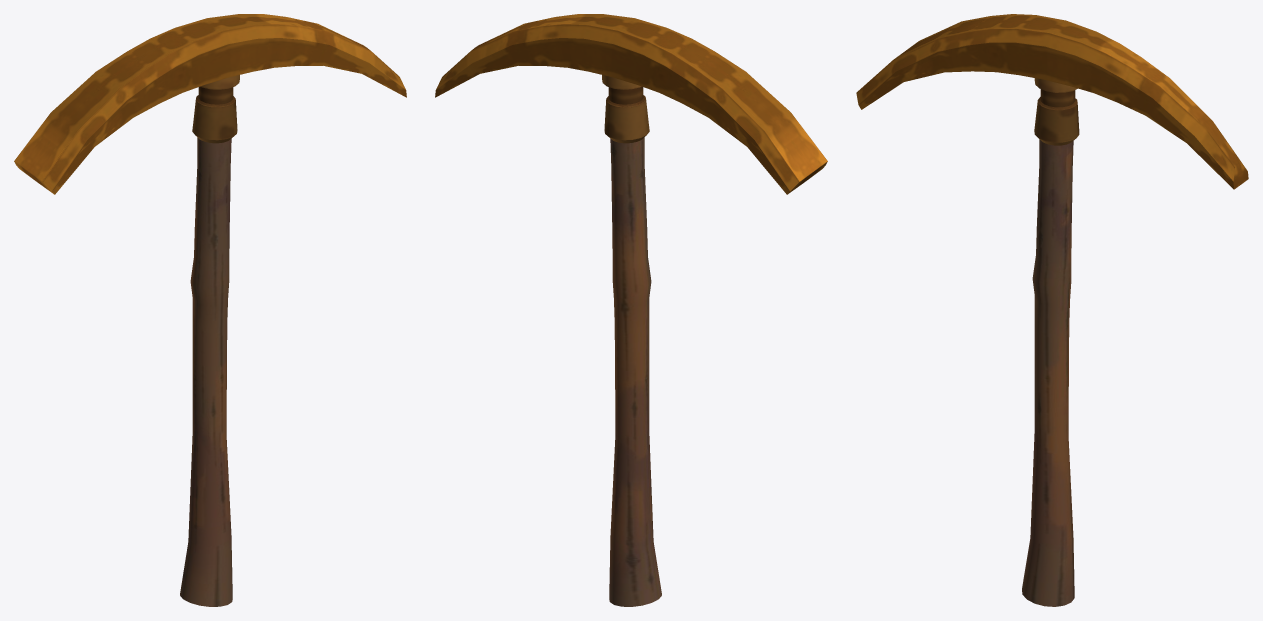
Rendered from pickaxe_bronze.glb.
3 renders of one model, left to right at view 1: azimuth 30°, elevation 25°; view 2: azimuth 150°, elevation 25°; view 3: azimuth 330°, elevation 25°, orthographic.
Parts seen in each view (by area): view 1: Pickaxe_Bronze.001; view 2: Pickaxe_Bronze.001; view 3: Pickaxe_Bronze.001.
Boxes of the visible parts, x1=… form: Pickaxe_Bronze.001: x1=14, y1=14, x2=406, y2=606; Pickaxe_Bronze.001: x1=435, y1=14, x2=827, y2=606; Pickaxe_Bronze.001: x1=856, y1=14, x2=1248, y2=606.
Bounding box in the file's own units: 0.8129 × 1.2 × 0.1357.
Materials: 1 (1 with a texture image).
